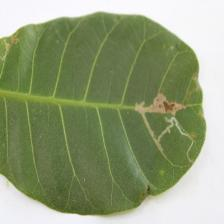leaf miner: (0, 11, 207, 216)
